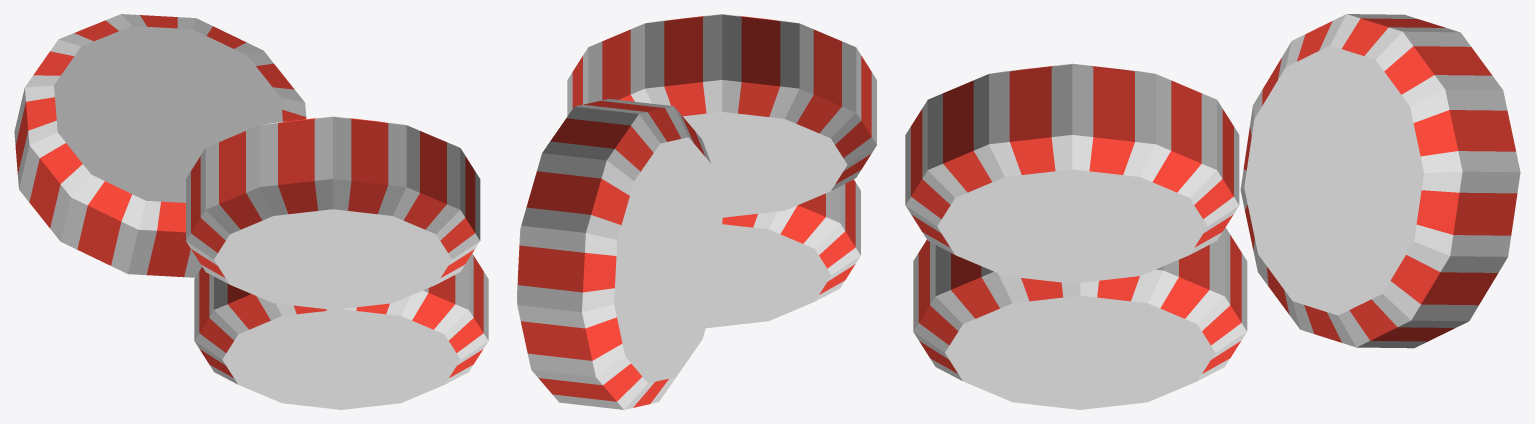
The model's file is medicine.glb.
The picture shows the model from 3 angles, left to right: view 1: azimuth 30°, elevation 25°; view 2: azimuth 150°, elevation 25°; view 3: azimuth 270°, elevation 25°; orthographic projection. The views are drawn at different scales.
Parts seen in each view (by area): view 1: Node; view 2: Node; view 3: Node.
Boxes of the visible parts, x1,y1,x2,y2 form: Node: (14, 14, 488, 409); Node: (517, 14, 876, 409); Node: (905, 14, 1520, 409).
Size of the model in its own units: 0.4957 by 0.4287 by 0.7918.
